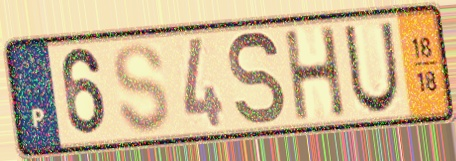4: (179, 33, 226, 132)
6: (59, 45, 109, 142)
H: (280, 23, 349, 124)
S: (226, 28, 289, 129), (111, 39, 172, 137)
U: (341, 19, 402, 117)
